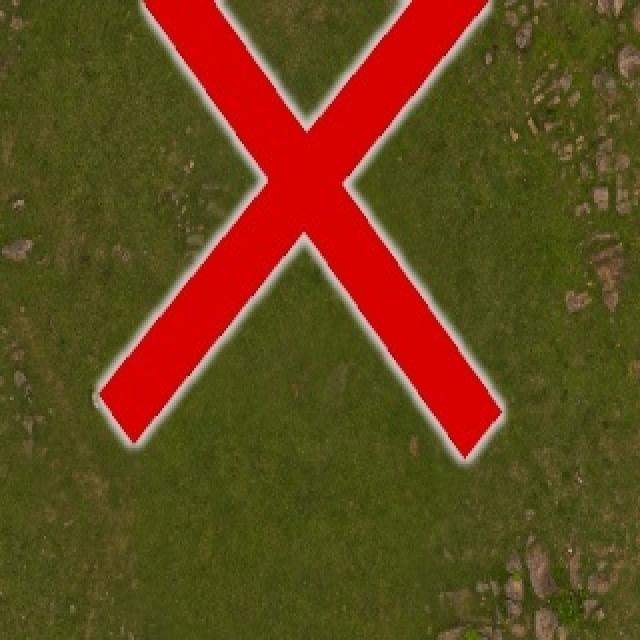x_marker: (99, 0, 501, 459)
